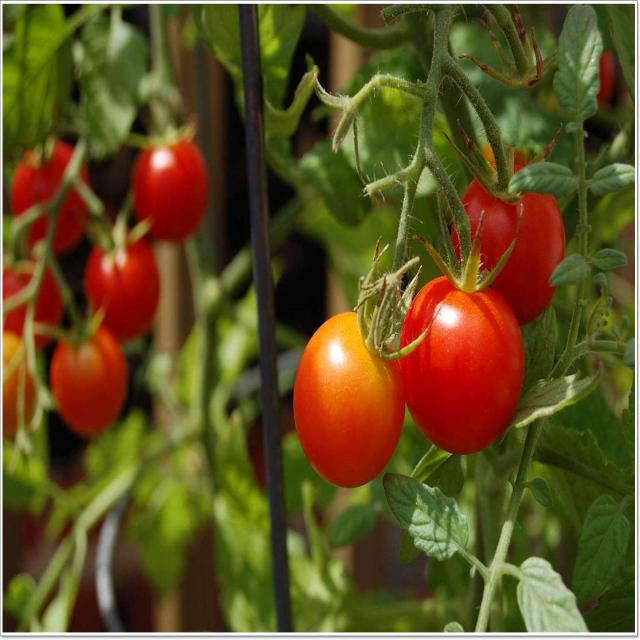level 5: (294, 308, 409, 489), (53, 327, 125, 438)
level 6: (400, 272, 524, 453), (452, 174, 564, 320), (13, 139, 86, 248), (133, 136, 206, 243), (86, 238, 160, 342), (0, 258, 62, 350)
